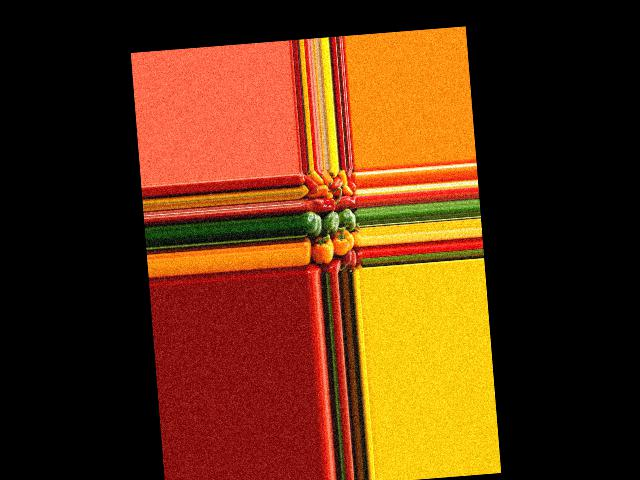bell_pepper: (302, 173, 319, 193)
